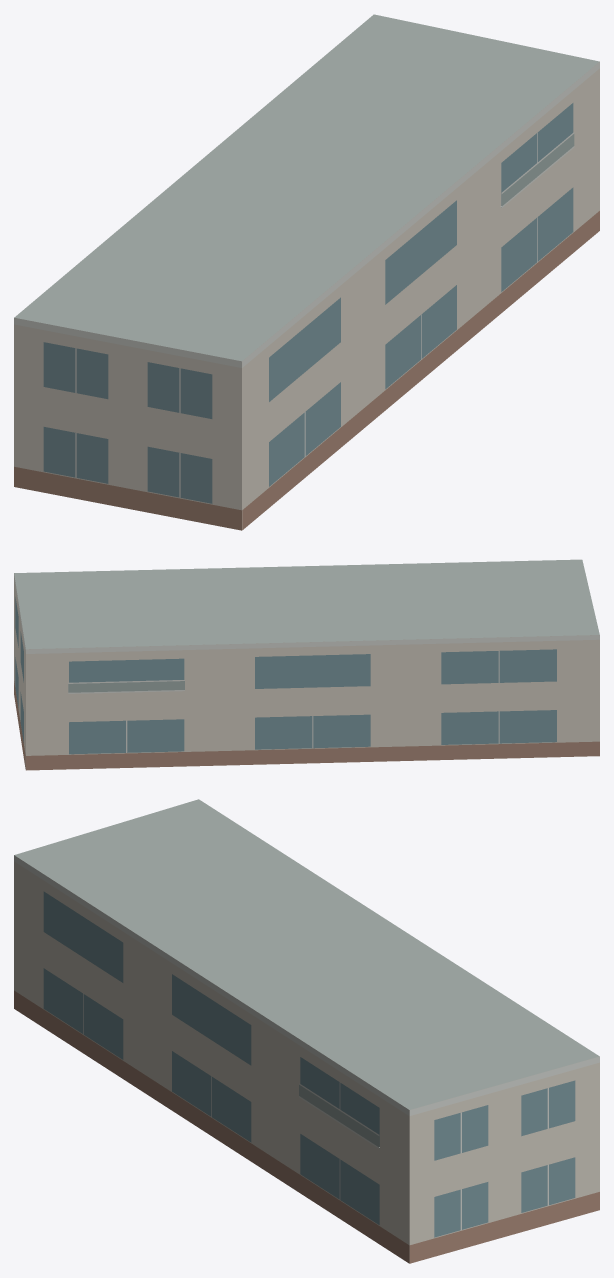
File: survey-upis-32953591.glb
The picture shows the model from 3 angles, top to bottom: view 1: azimuth 30°, elevation 25°; view 2: azimuth 150°, elevation 25°; view 3: azimuth 270°, elevation 25°; orthographic projection. The views are drawn at different scales.
Parts seen in each view (by area): view 1: survey-upis-32953591.tmp; view 2: survey-upis-32953591.tmp; view 3: survey-upis-32953591.tmp.
Boxes of the visible parts, bbox=[...] form: survey-upis-32953591.tmp: bbox=[14, 14, 599, 530]; survey-upis-32953591.tmp: bbox=[14, 559, 599, 770]; survey-upis-32953591.tmp: bbox=[14, 799, 599, 1263].
Size of the model in its own units: 26.48 by 6.1 by 21.09.
